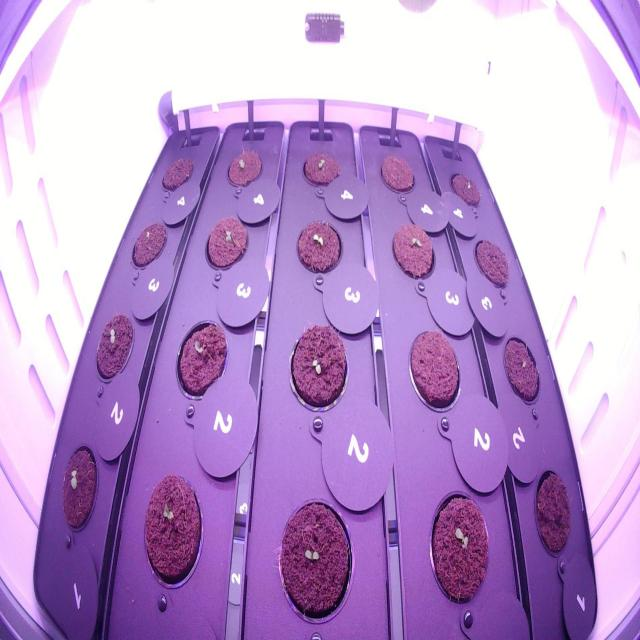germination: (272, 492, 360, 631), (138, 467, 208, 598), (424, 484, 492, 615), (282, 317, 352, 415), (172, 314, 235, 408), (57, 439, 101, 540), (386, 218, 440, 288), (92, 307, 136, 391), (292, 212, 346, 280), (199, 209, 251, 278), (223, 142, 265, 198), (297, 145, 344, 190)
pod: (403, 324, 465, 420), (528, 460, 575, 567), (498, 333, 542, 409), (470, 231, 511, 296), (127, 216, 169, 276), (377, 148, 418, 198), (443, 163, 485, 210), (156, 152, 196, 197)
